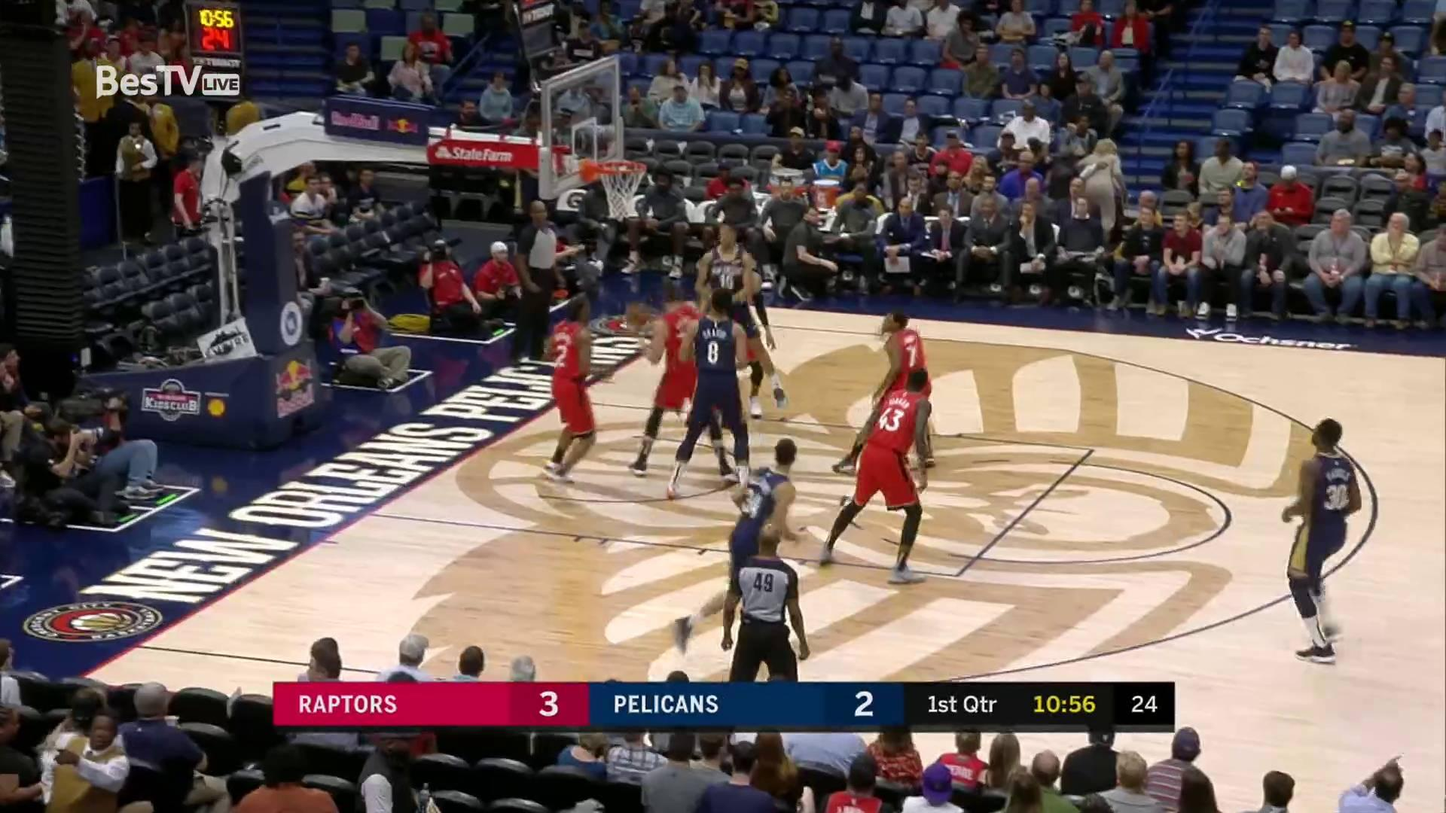basketball: (621, 298, 654, 332)
